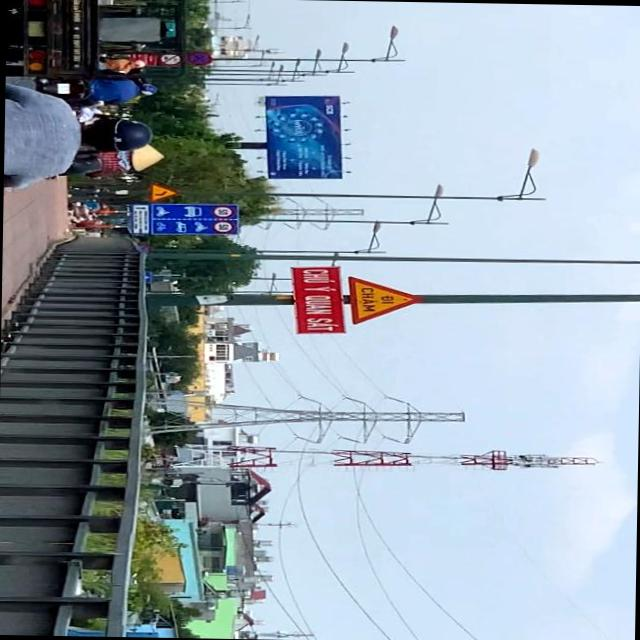W-245a: (348, 274, 424, 324)
